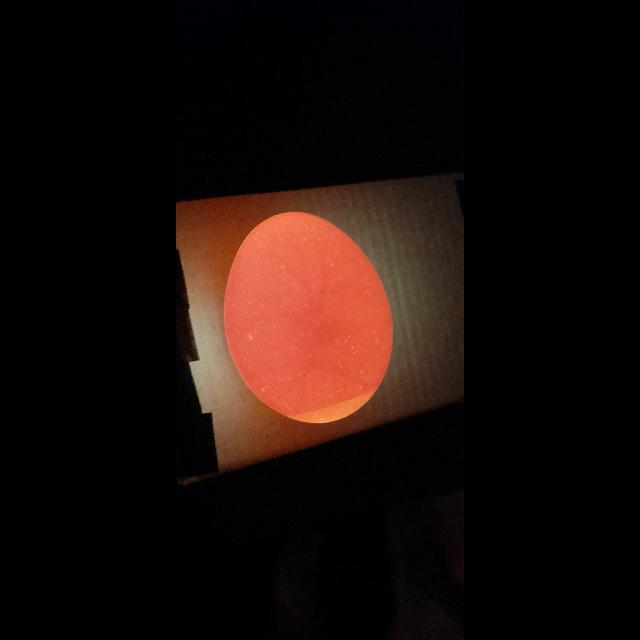Fertile: (218, 207, 398, 427)
